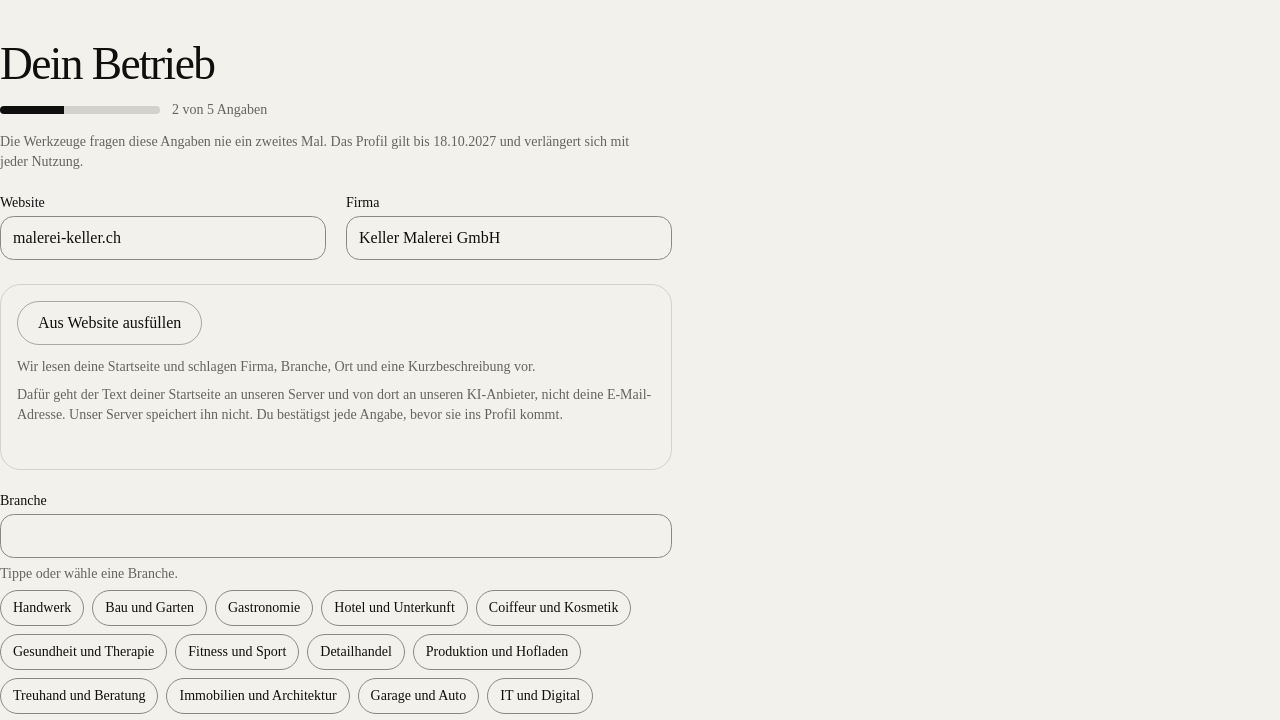
Test: Aus Website ausfüllen › liest die Website, zeigt die Vorschläge zur Bestätigung und trägt nur Angehaktes ins Profil ein
Click the button "Aus Website ausfüllen" at (110, 323), box [17,301,202,345]
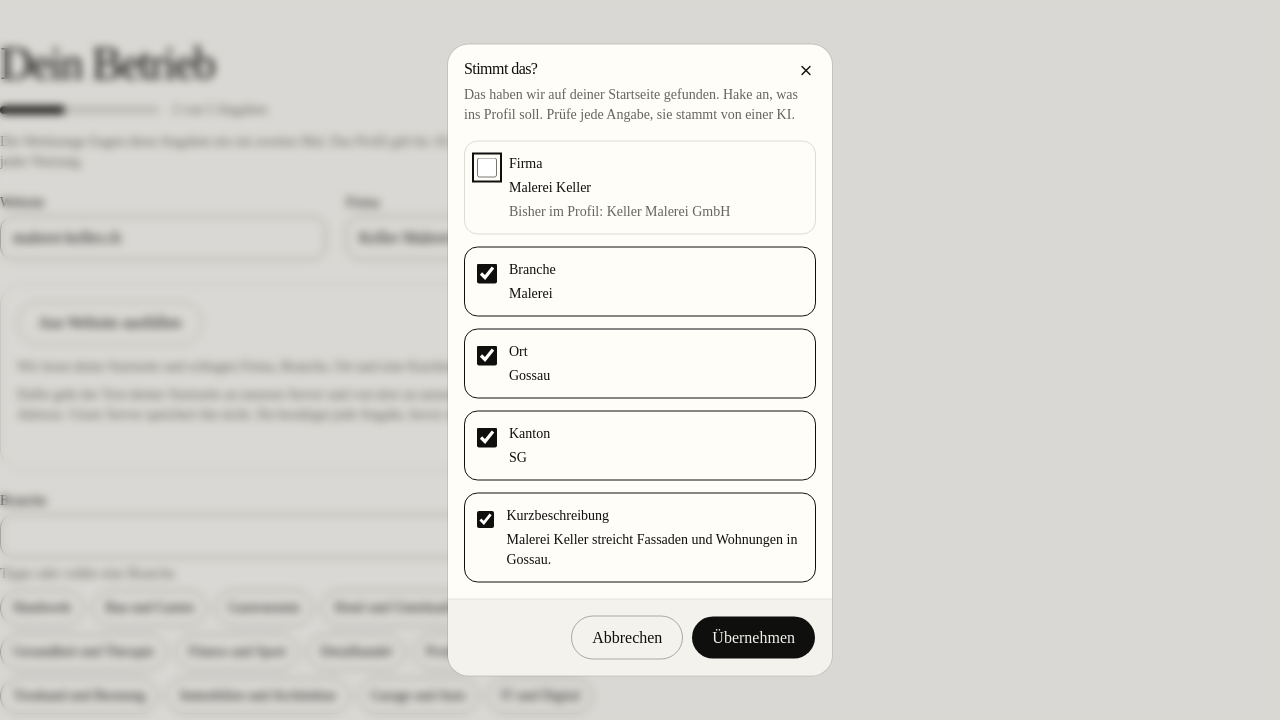
Result: the checkbox labelled "Firma Malerei Keller Bisher im Profil: Keller Malerei GmbH" is not checked at [477,158,497,178]
Result: the text "Bisher im Profil: Keller Malerei GmbH" is shown at [509,202,730,222]
Result: the checkbox labelled "Branche Malerei" is checked at [477,264,497,284]
Click the checkbox labelled "Ort Gossau" at (487, 356), box [477,346,497,366]
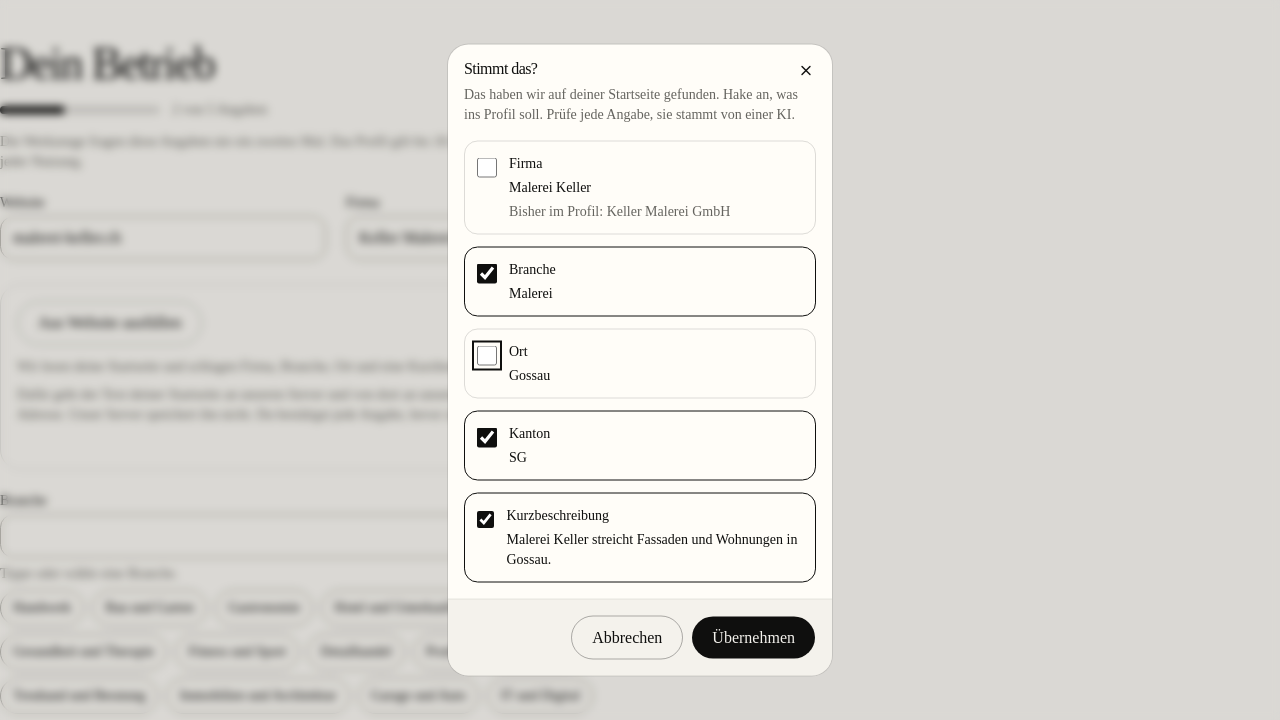
Click the button "Übernehmen" at (754, 638), box [691,616,816,660]
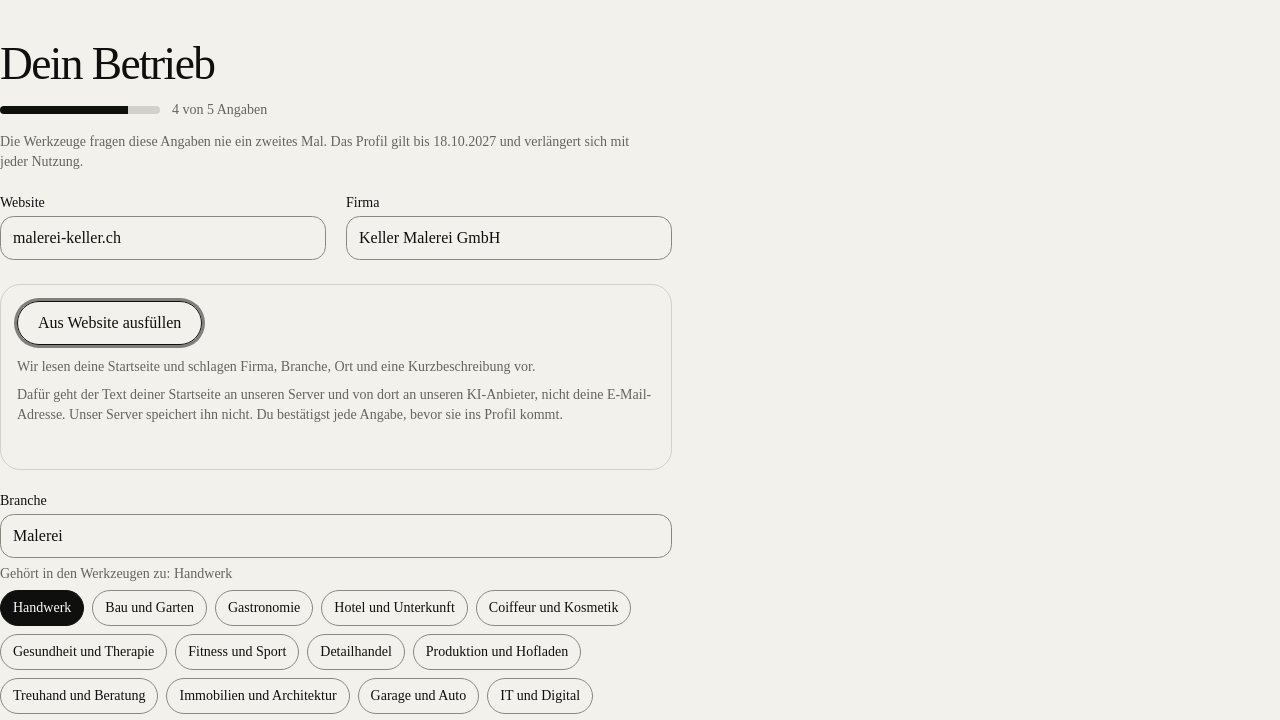
Result: the dialog is gone
